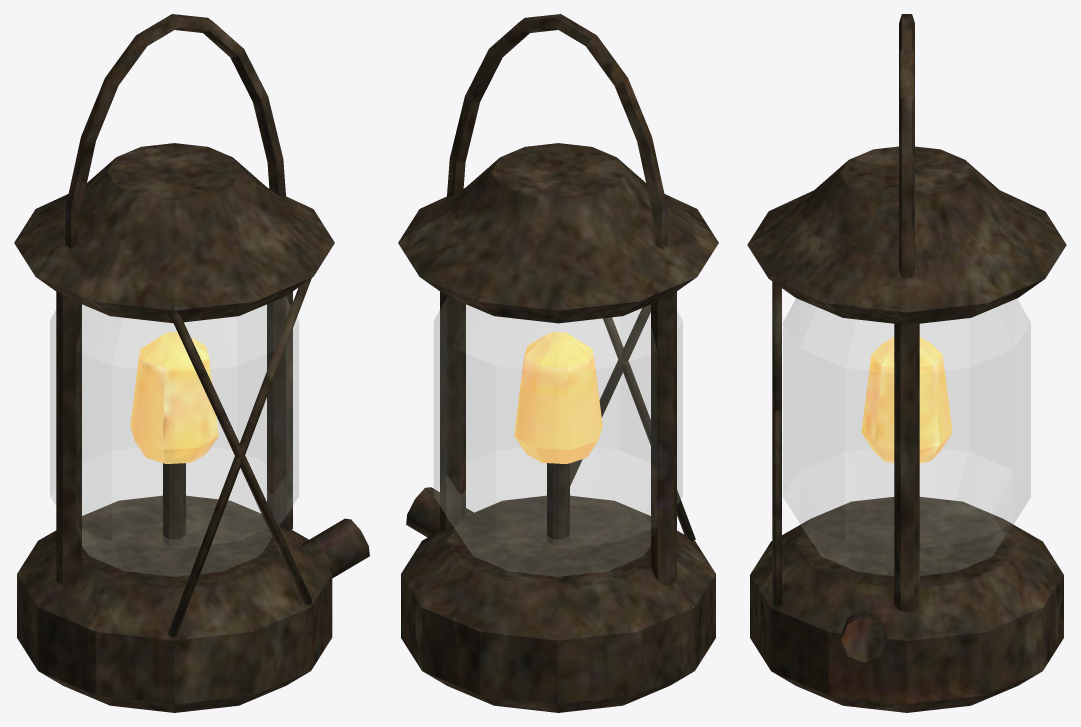
File: Petromax_Lamp.glb
The picture shows the model from 3 angles, left to right: view 1: azimuth 30°, elevation 25°; view 2: azimuth 150°, elevation 25°; view 3: azimuth 270°, elevation 25°; orthographic projection.
Visible parts, largest first — view 1: Petromax_Lamp; view 2: Petromax_Lamp; view 3: Petromax_Lamp.
Boxes of the visible parts, x1,y1,x2,y2 form: Petromax_Lamp: (14, 14, 369, 712); Petromax_Lamp: (398, 14, 718, 712); Petromax_Lamp: (747, 14, 1066, 712).
Size of the model in its own units: 0.2471 by 0.4949 by 0.224.
2 materials, 1 textured.
